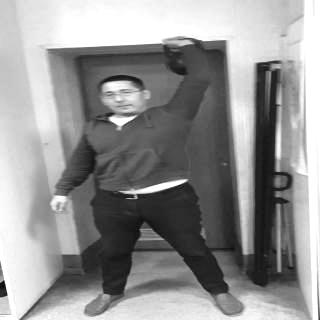kettlebell: (162, 37, 207, 76)
